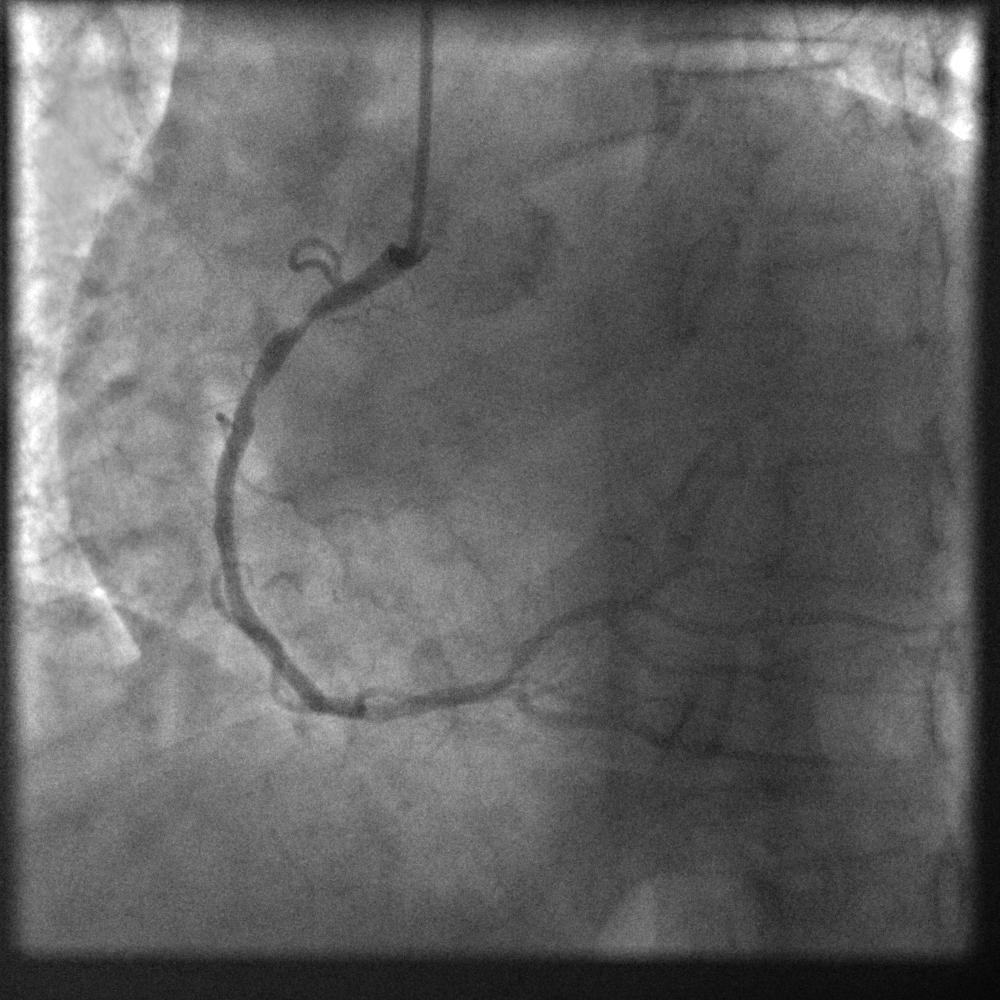Stenosis: (274, 308, 339, 348)
